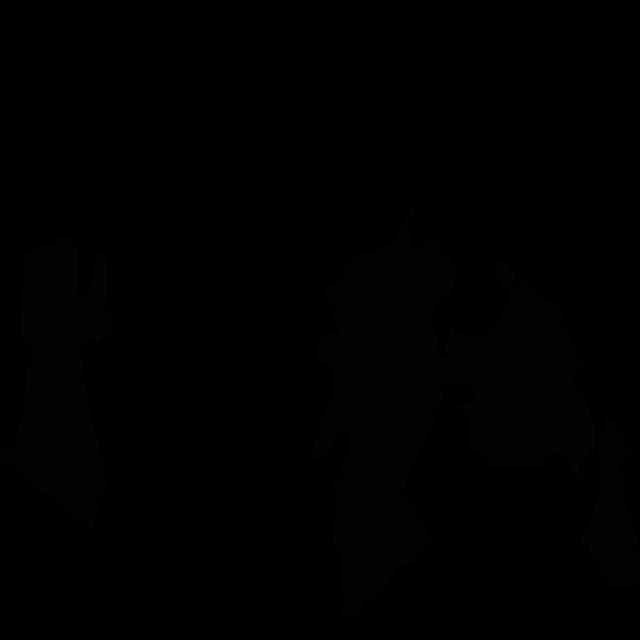cardboard: (309, 208, 459, 619), (0, 236, 116, 529), (444, 259, 595, 481), (367, 307, 454, 571), (580, 415, 640, 591)
